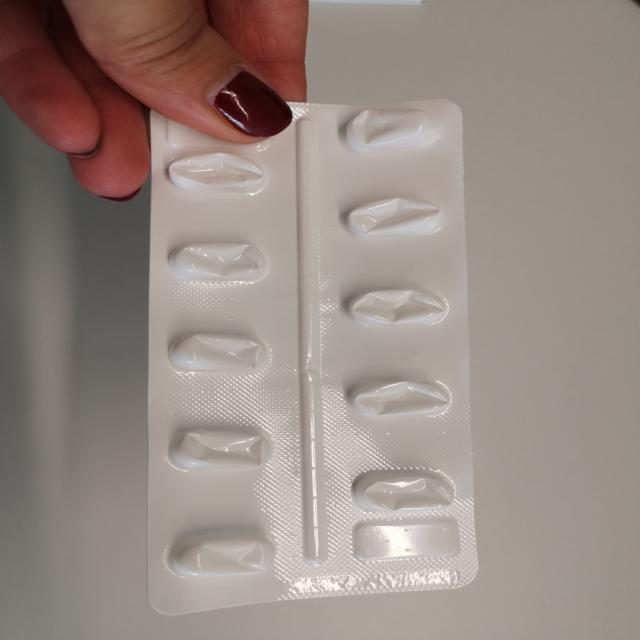Empty: (164, 526, 278, 582), (164, 420, 275, 473), (347, 465, 461, 516), (161, 147, 271, 199), (343, 372, 455, 423), (164, 329, 272, 380), (338, 194, 449, 242), (340, 285, 456, 330), (165, 240, 272, 286), (340, 107, 444, 153)
